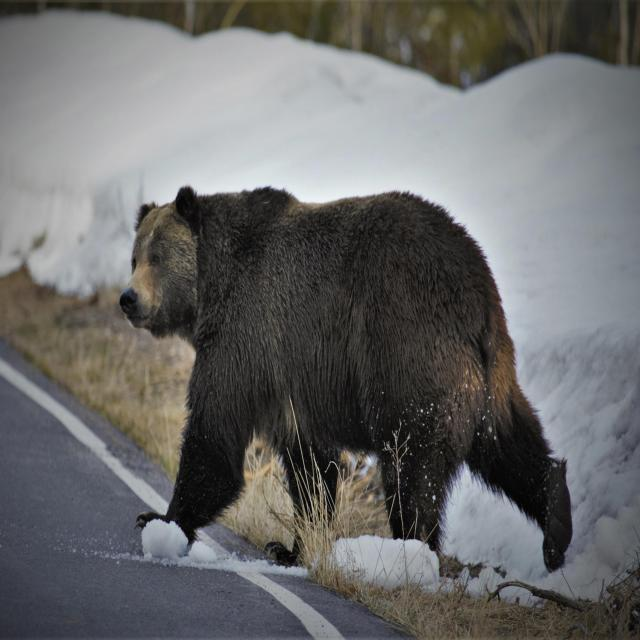Bear: (118, 186, 574, 575)
